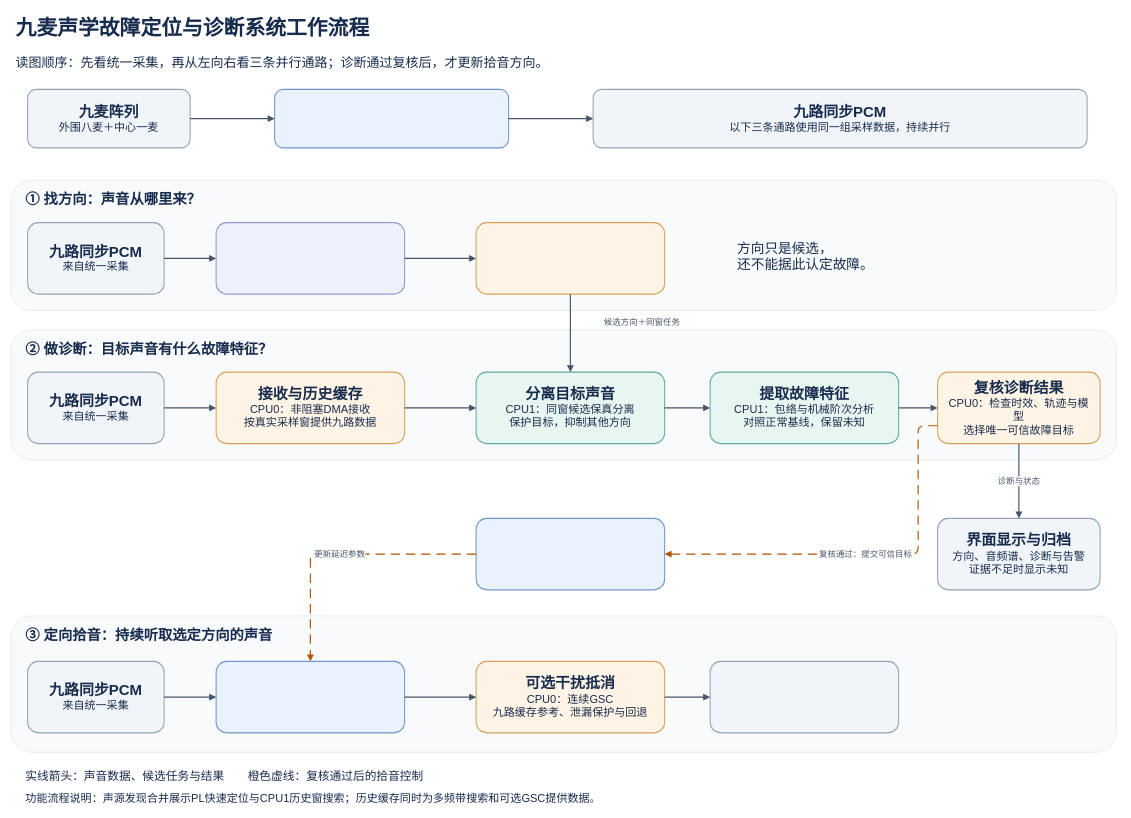
The diagram is 1131 pixels wide and 818 high, and some of its shapes have lost their labels. The shapes that lost their labels are listed below. From the top down, each one's centre as x and y in pixels, then its label:
At point 391,118: "统一同步采集 PDM抽取、去直流与增益校正".
At point 310,258: "发现声源方向 PL：快速定位 CPU1：历史窗多频带搜索".
At point 570,258: "管理候选与轨迹 CPU0：融合方向候选 形成同窗分析任务".
At point 570,554: "统一更新拾音方向 PL：九路延迟向量一次提交 只接受复核通过的可信目标".
At point 310,697: "持续定向拾音 PL：连续DAS / FIR 逐样点处理，不等待诊断".
At point 804,697: "定向音频输出 目标方向拾音、试听与记录".
